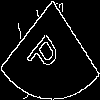P: (25, 25, 65, 81)
